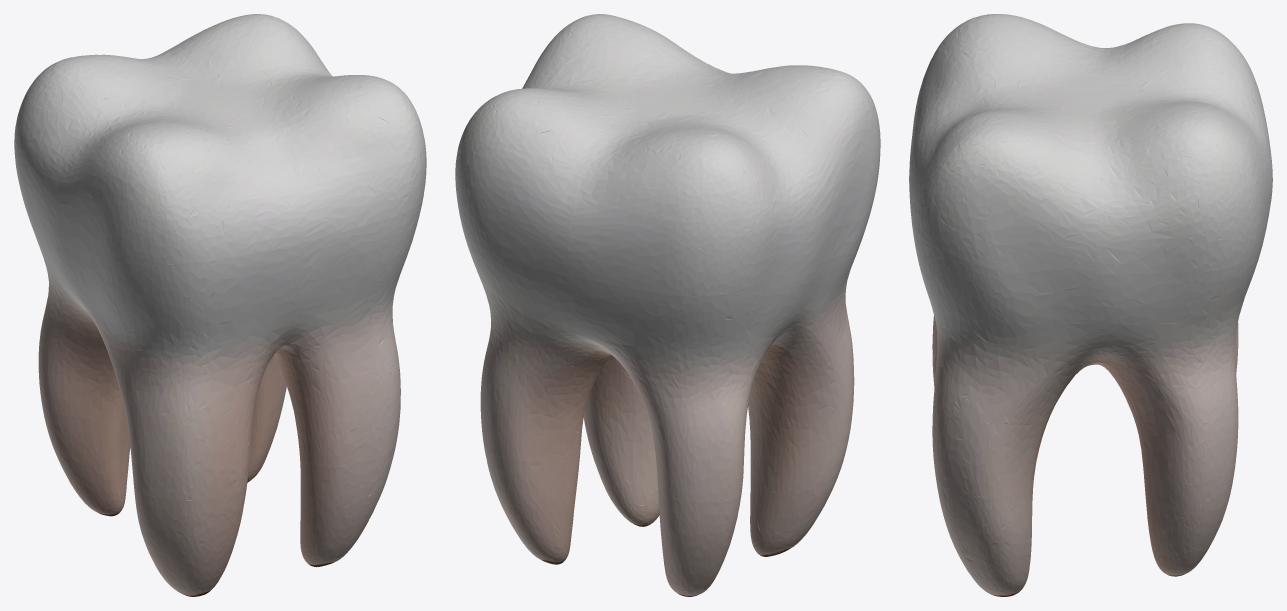
File: tooth.glb
The picture shows the model from 3 angles, left to right: view 1: azimuth 30°, elevation 25°; view 2: azimuth 150°, elevation 25°; view 3: azimuth 270°, elevation 25°; orthographic projection. The views are drawn at different scales.
Parts seen in each view (by area): view 1: tripo_node_8ca054c3-6b10-4f88-ab76-ed591ebd8e85; view 2: tripo_node_8ca054c3-6b10-4f88-ab76-ed591ebd8e85; view 3: tripo_node_8ca054c3-6b10-4f88-ab76-ed591ebd8e85.
Part boxes in pixels (x1,y1,x2,y2): tripo_node_8ca054c3-6b10-4f88-ab76-ed591ebd8e85: (14,14,426,596); tripo_node_8ca054c3-6b10-4f88-ab76-ed591ebd8e85: (455,14,880,596); tripo_node_8ca054c3-6b10-4f88-ab76-ed591ebd8e85: (909,14,1272,596).
Bounding box in the file's own units: 0.6805 × 0.9999 × 0.6706.
1 material, 1 textured.
